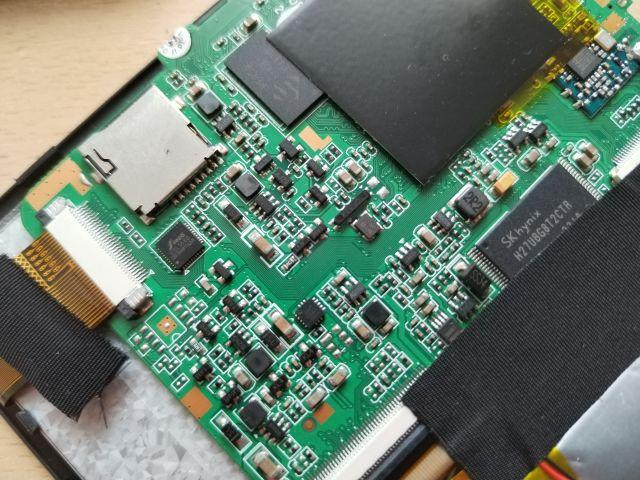capacitor: (236, 220, 284, 274), (265, 301, 301, 343), (409, 222, 441, 253), (344, 314, 374, 347)
resistor: (322, 134, 347, 162), (397, 345, 416, 374)
